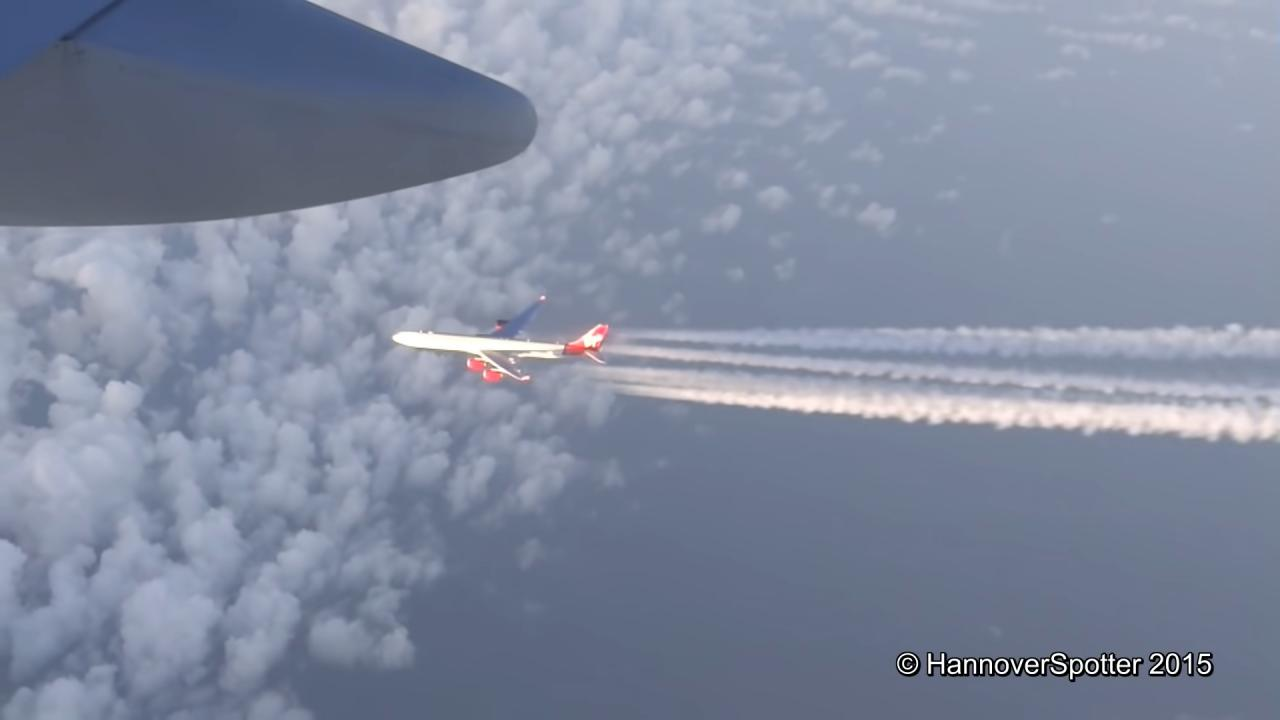Airplane: (387, 286, 616, 388)
